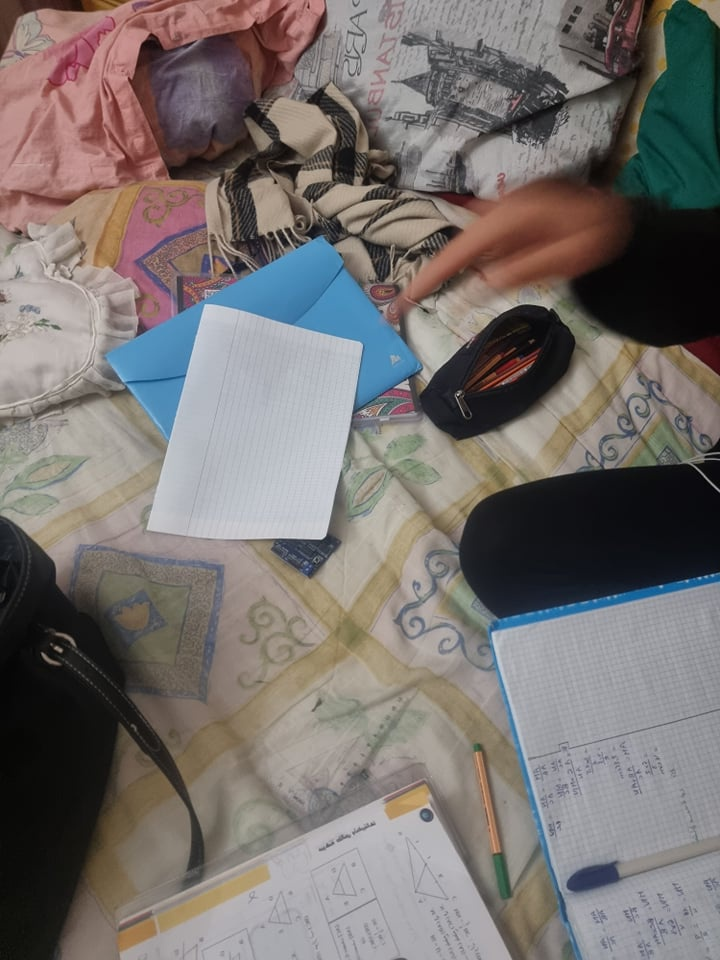5V EXPANSION: (265, 528, 343, 578)
